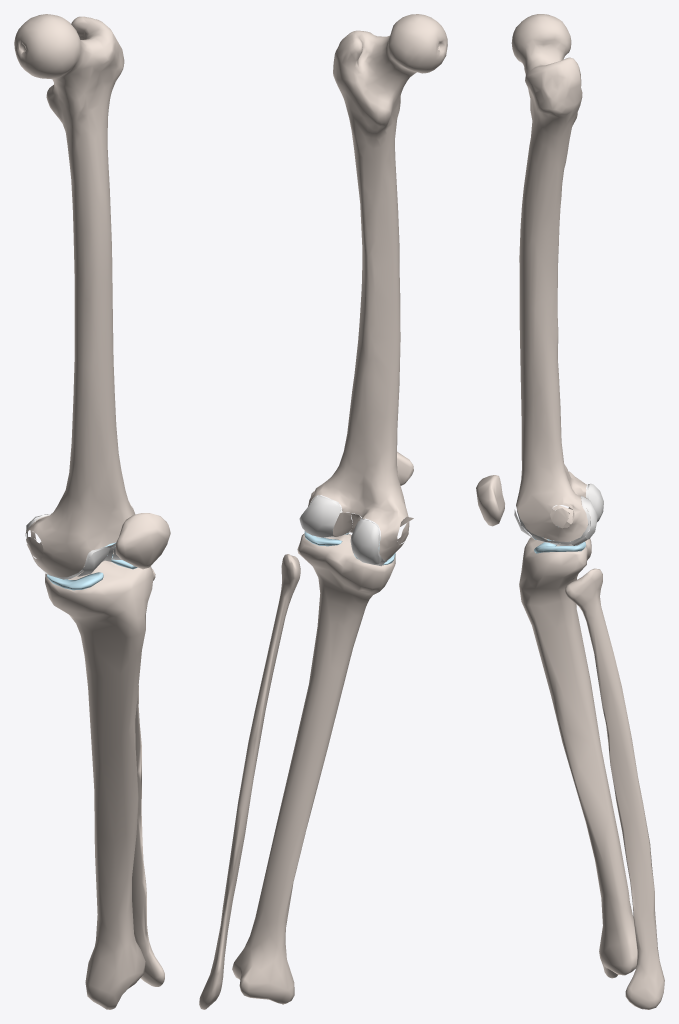
File: vh_m_knee_l.glb
3 renders of one model, left to right at view 1: azimuth 30°, elevation 25°; view 2: azimuth 150°, elevation 25°; view 3: azimuth 270°, elevation 25°, orthographic. The views are drawn at different scales.
Visible parts, largest first — view 1: VH_M_femur_L, VH_M_tibia_L, VH_M_fibula_L, VH_M_patella_L, VH_M_meniscus_L; view 2: VH_M_femur_L, VH_M_tibia_L, VH_M_fibula_L, VH_M_lateral_condyle_of_femur_inf_L, VH_M_medial_condyle_of_left_femur_inf; view 3: VH_M_femur_L, VH_M_tibia_L, VH_M_fibula_L, VH_M_patella_L, VH_M_articular_cartilage_of_knee_L.
Boxes of the visible parts, <box> form: VH_M_femur_L: <box>14,14,135,577</box>; VH_M_tibia_L: <box>45,550,153,1009</box>; VH_M_fibula_L: <box>132,569,164,986</box>; VH_M_patella_L: <box>115,513,170,569</box>; VH_M_meniscus_L: <box>47,542,137,590</box>; VH_M_femur_L: <box>308,14,447,560</box>; VH_M_tibia_L: <box>232,533,395,1004</box>; VH_M_fibula_L: <box>199,554,300,1009</box>; VH_M_lateral_condyle_of_femur_inf_L: <box>299,496,341,537</box>; VH_M_medial_condyle_of_left_femur_inf: <box>350,519,380,564</box>; VH_M_femur_L: <box>511,14,587,541</box>; VH_M_tibia_L: <box>519,536,637,978</box>; VH_M_fibula_L: <box>565,568,664,1009</box>; VH_M_patella_L: <box>476,475,504,526</box>; VH_M_articular_cartilage_of_knee_L: <box>517,484,590,545</box>.
Size of the model in its own units: 0.1736 by 0.8875 by 0.1647.
